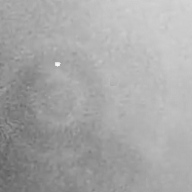Target: (53, 61, 61, 67)
